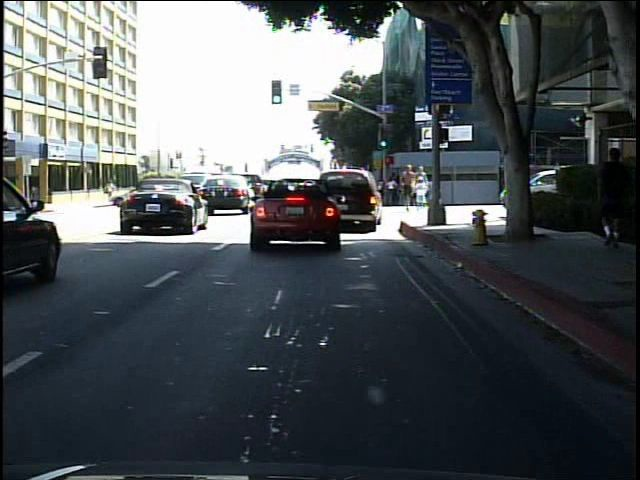person: (591, 139, 632, 251), (397, 163, 418, 215), (413, 176, 430, 210), (103, 178, 118, 204)
